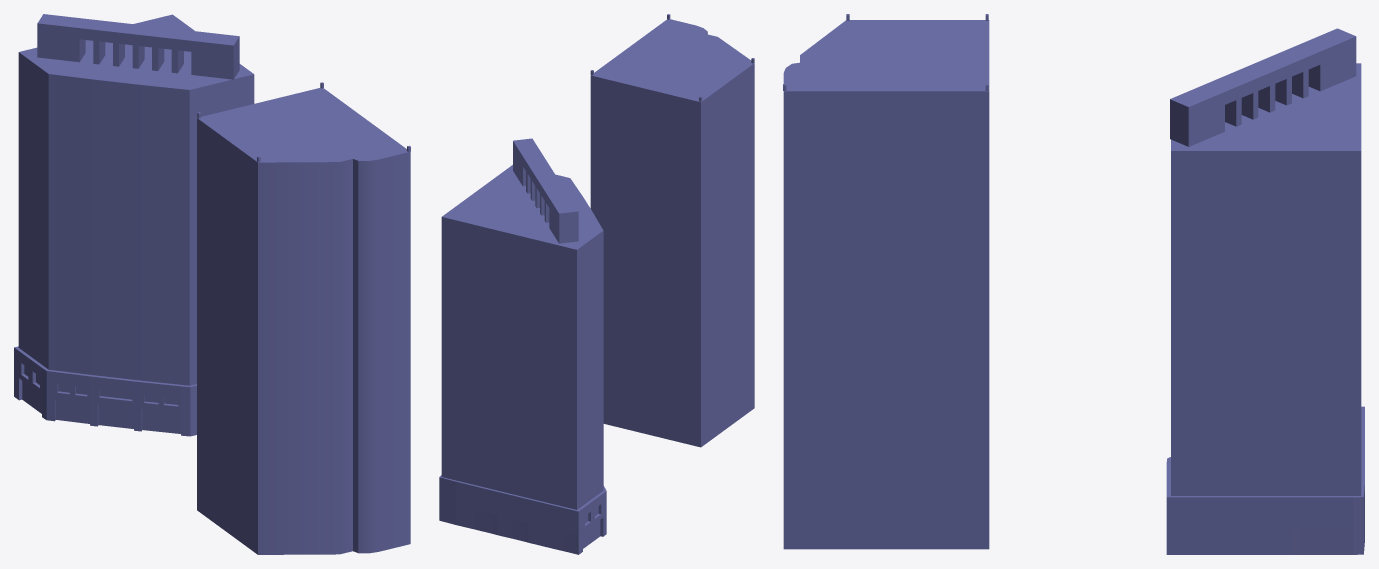
The model's file is PUCK_Building.fbx.
3 renders of one model, left to right at view 1: azimuth 30°, elevation 25°; view 2: azimuth 150°, elevation 25°; view 3: azimuth 270°, elevation 25°, orthographic. The views are drawn at different scales.
Visible parts, largest first — view 1: Cube.070, Cube.075; view 2: Cube.070, Cube.075; view 3: Cube.070, Cube.075.
Boxes of the visible parts, <box> form: Cube.070: <box>197,82,410,554</box>; Cube.075: <box>14,14,254,436</box>; Cube.070: <box>590,14,754,447</box>; Cube.075: <box>439,138,606,554</box>; Cube.070: <box>783,14,989,549</box>; Cube.075: <box>1166,28,1364,554</box>.
Bounding box in the file's own units: 4394 × 10459 × 11888.
